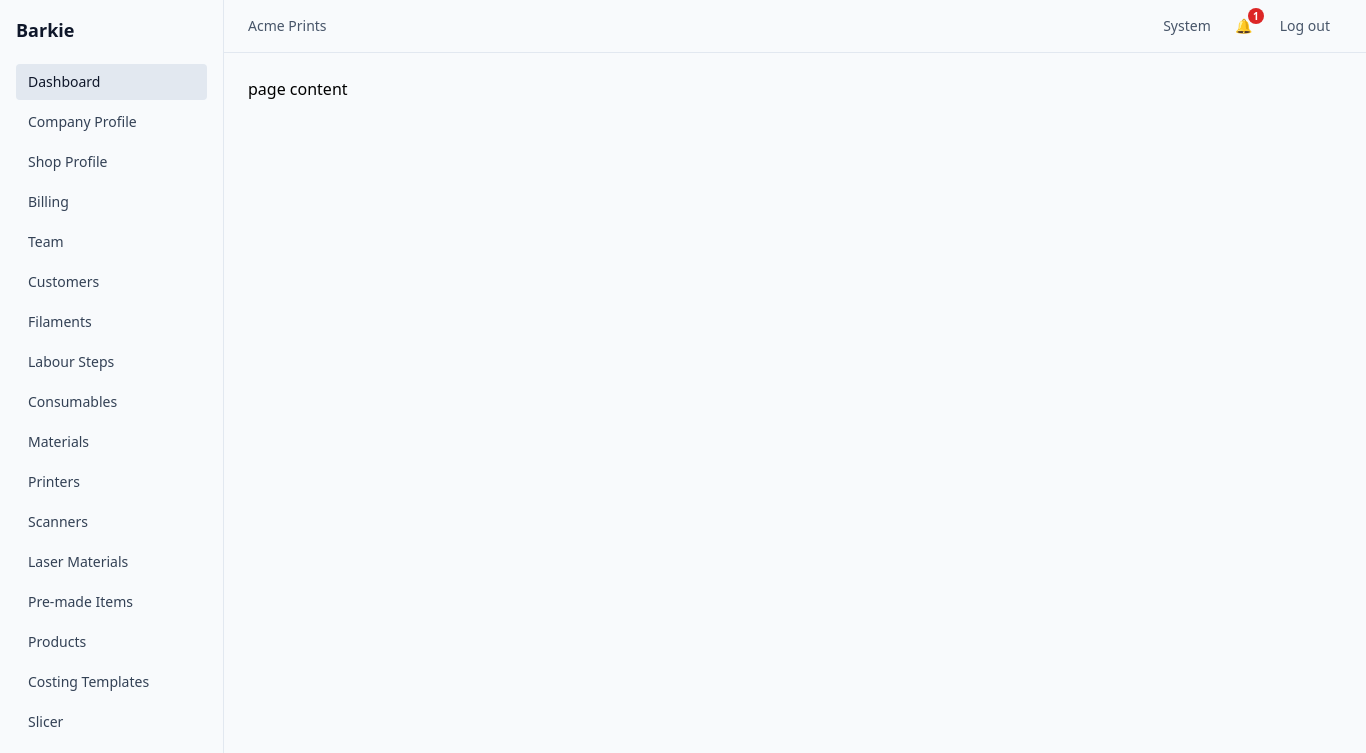
Test case: AppShell › opens the dropdown and lists recent notifications
Click the button named "Notifications": [1243, 26] box [1227, 12, 1260, 40]
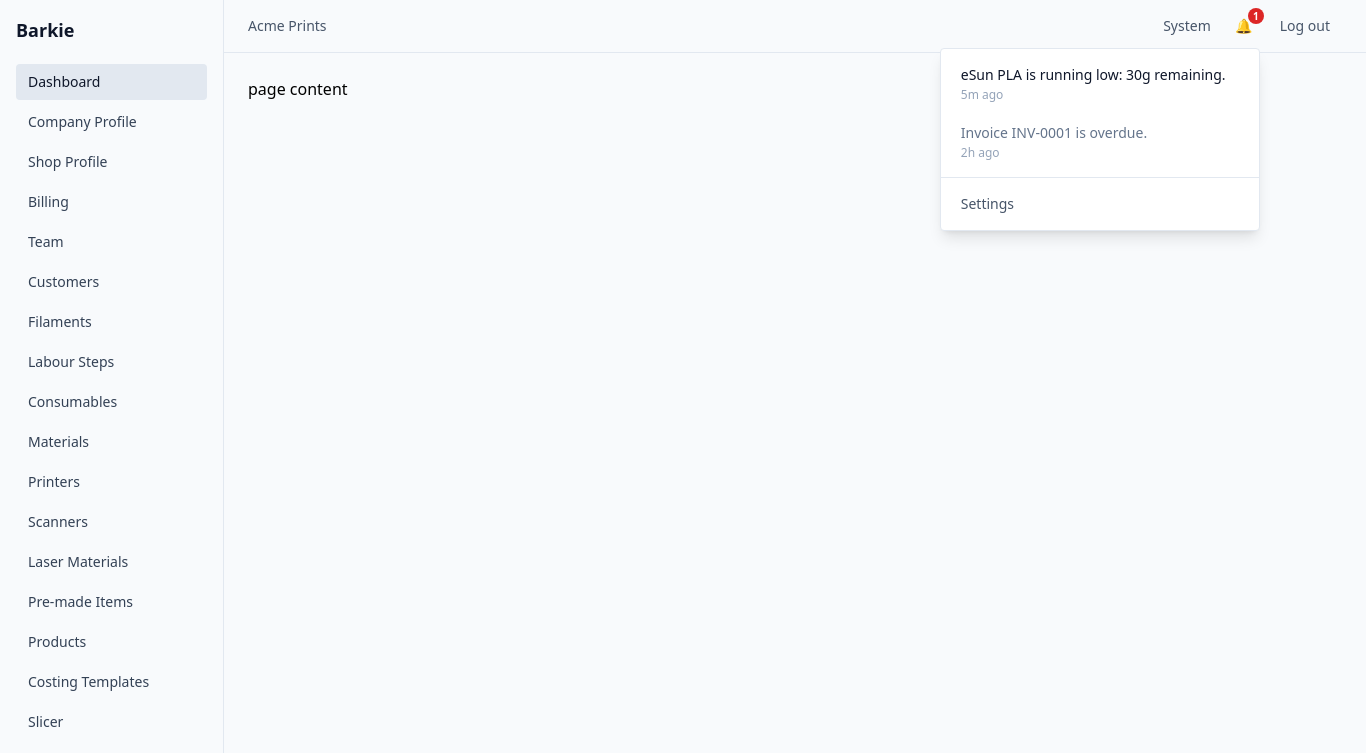
Now the text "eSun PLA is running low: 30g remaining." is shown, box [961, 65, 1226, 85]
Now the text "Invoice INV-0001 is overdue." is shown, box [961, 123, 1147, 143]
